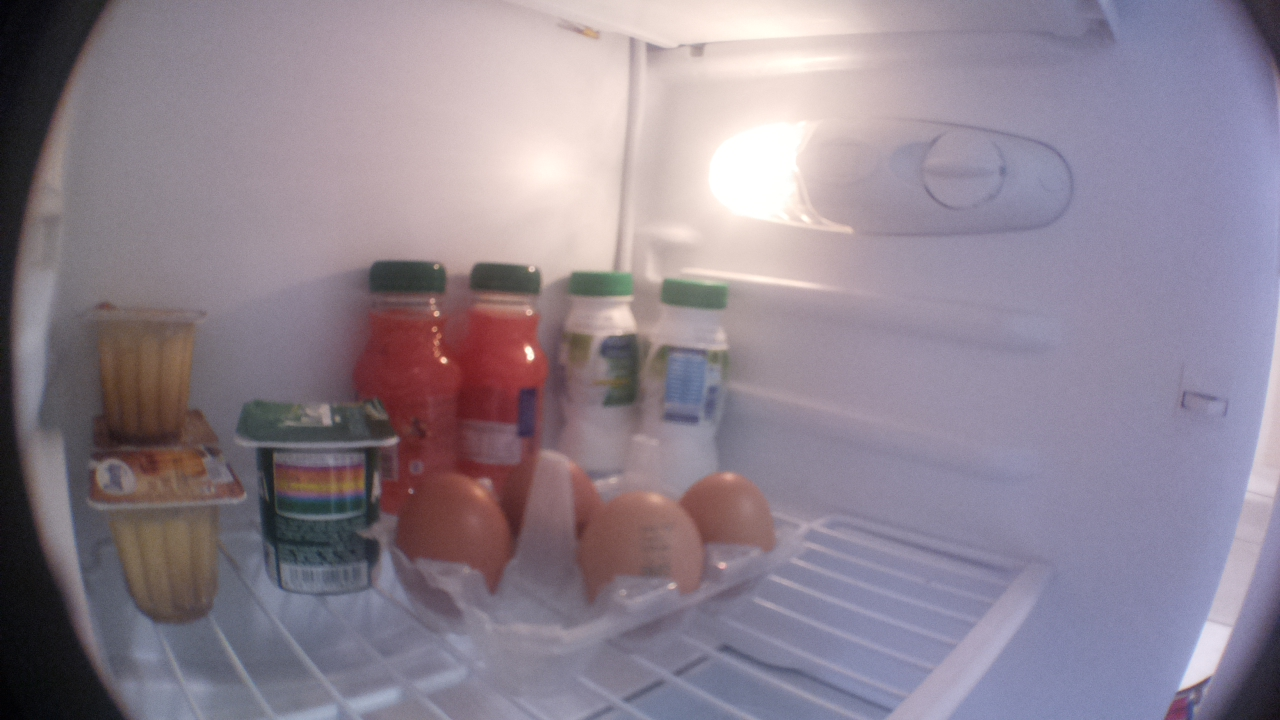caramel: (82, 439, 233, 629), (82, 286, 215, 447), (82, 399, 223, 458)
egg: (575, 484, 716, 649), (389, 469, 504, 620), (677, 466, 784, 613), (495, 448, 602, 585)
juice: (349, 257, 463, 522), (447, 253, 556, 497)
laban: (617, 269, 739, 502), (550, 257, 650, 479)
yoghurt: (235, 386, 400, 603)
